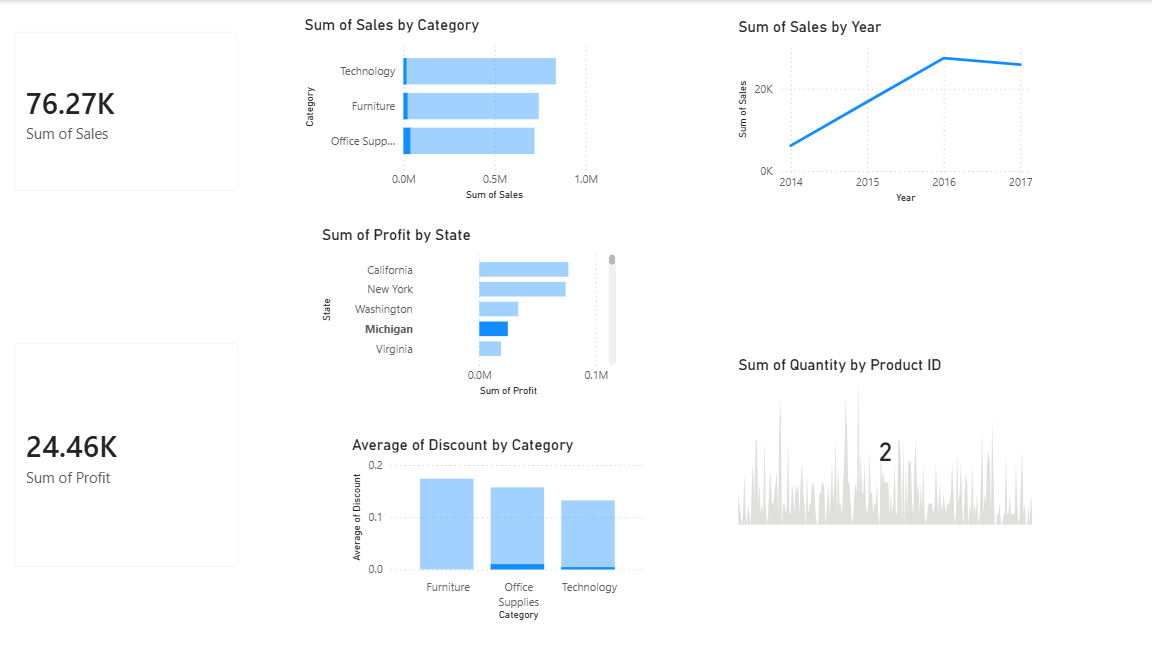

The page's visual inventory and layout, read from the dashboard file:
{"tool":"powerbi","page":{"name":"Page 1","canvas":[1280,720],"ordinal":0},"visuals":[{"type":"cardVisual","fields":{"Data":["Sum(superstore_db orders.Profit)"]},"box":[10,360,280,280],"z":1},{"type":"clusteredBarChart","fields":{"Category":["superstore_db orders.Category"],"Y":["Sum(superstore_db orders.Sales)"]},"box":[340,17.1,332.9,208.6],"z":2},{"type":"clusteredBarChart","fields":{"Category":["superstore_db orders.State"],"Y":["Sum(superstore_db orders.Profit)"]},"box":[360,247.1,332.9,192.9],"z":3},{"type":"clusteredColumnChart","fields":{"Category":["superstore_db orders.Category"],"Y":["Avg(superstore_db orders.Discount)"]},"box":[392.9,477.1,332.9,208.6],"z":4},{"type":"lineChart","fields":{"Category":["superstore_db orders.Order Date.Variation.Date Hierarchy.Year","superstore_db orders.Order Date.Variation.Date Hierarchy.Quarter","superstore_db orders.Order Date.Variation.Date Hierarchy.Month","superstore_db orders.Order Date.Variation.Date Hierarchy.Day"],"Y":["Sum(superstore_db orders.Sales)"]},"box":[817.1,18.6,332.9,208.6],"z":5},{"type":"kpi","fields":{"Indicator":["Sum(superstore_db orders.Quantity)"],"TrendLine":["superstore_db orders.Product ID"]},"box":[817.1,390,332.9,191.4],"z":6},{"type":"cardVisual","fields":{"Data":["Sum(superstore_db orders.Sales)"]},"box":[10,18,280,209],"z":7}]}

Visuals, with their boxes in screenshot pixels (x1, y1, x2, y2), scaled from the page's 1280x720 canvas onto the 1152x652 screenshot:
cardVisual - Sum(superstore_db orders.Profit): region(9, 326, 261, 580)
clusteredBarChart - superstore_db orders.Category x Sum(superstore_db orders.Sales): region(306, 15, 606, 204)
clusteredBarChart - superstore_db orders.State x Sum(superstore_db orders.Profit): region(324, 224, 624, 398)
clusteredColumnChart - superstore_db orders.Category x Avg(superstore_db orders.Discount): region(354, 432, 653, 621)
lineChart - superstore_db orders.Order Date.Variation.Date Hierarchy.Year x superstore_db orders.Order Date.Variation.Date Hierarchy.Quarter: region(735, 17, 1035, 206)
kpi - Sum(superstore_db orders.Quantity) x superstore_db orders.Product ID: region(735, 353, 1035, 526)
cardVisual - Sum(superstore_db orders.Sales): region(9, 16, 261, 206)
